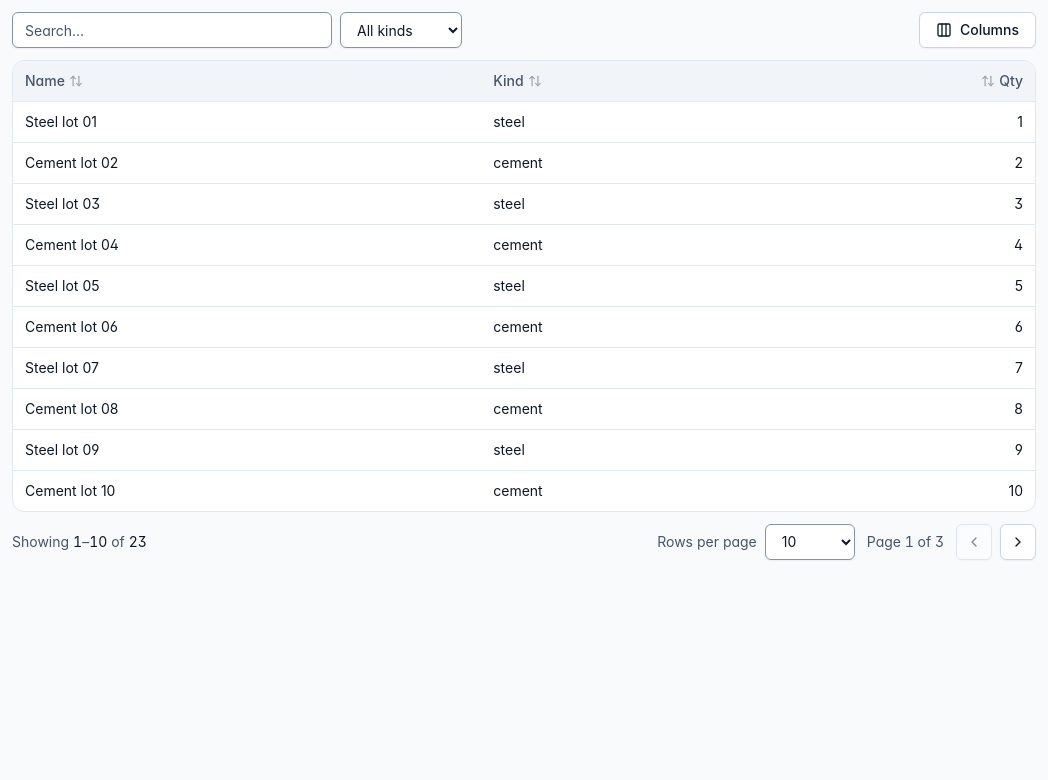
Scenario: DataTable › sorts by clicking the header and exposes aria-sort
This screenshot has width=1048, height=780.
Click the button "Qty" at (1002, 81), box [977,69,1027,93]
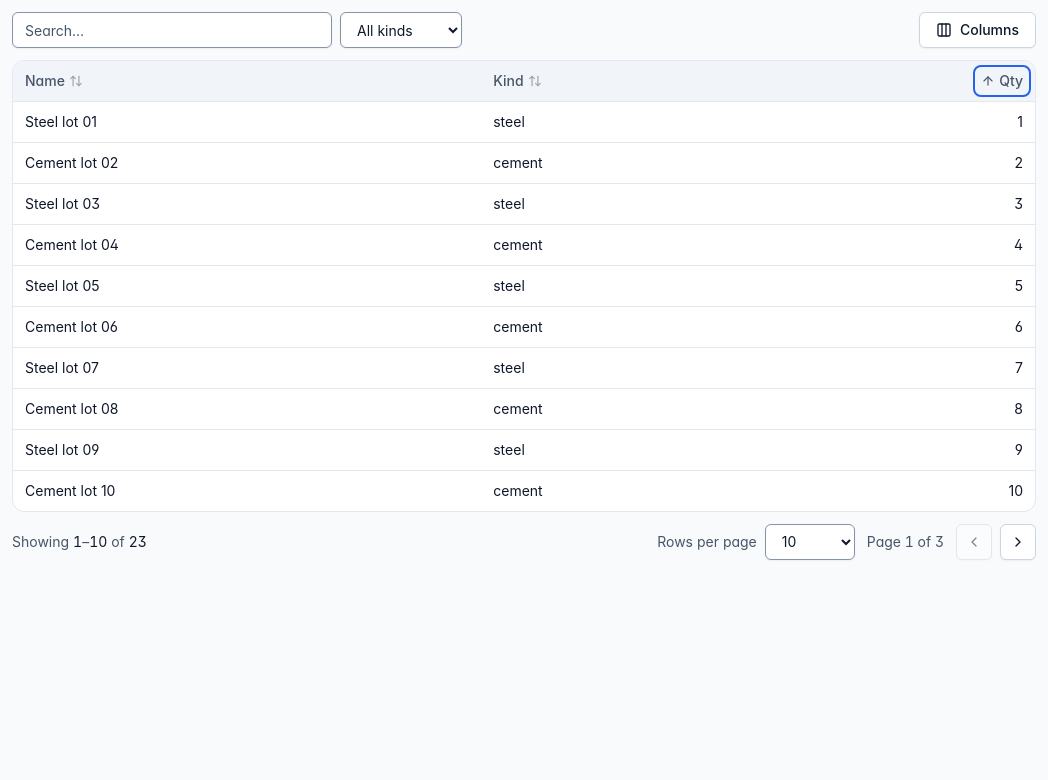
Check: the cell "Steel lot 01" is shown, box [13,101,481,142]
Check: the column heading "Qty" has attribute aria-sort="ascending", box [773,61,1035,101]
Click the button "Qty" at (1002, 81), box [977,69,1027,93]
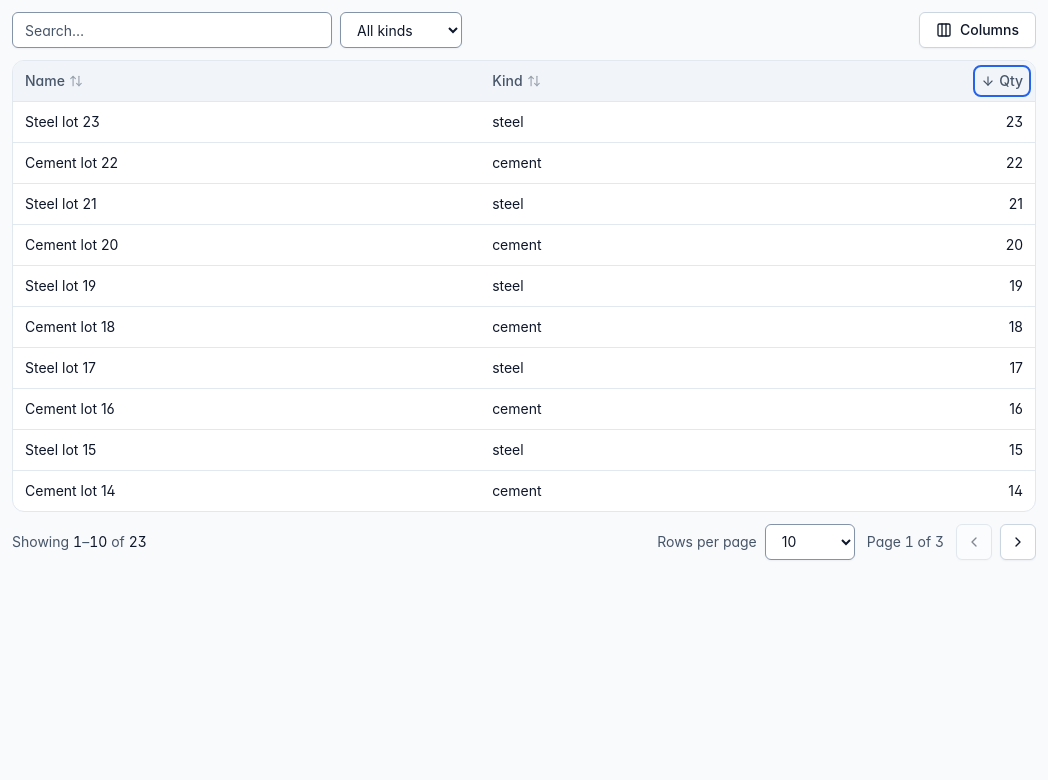
Check: the cell "Steel lot 23" is shown, box [13,101,480,142]
